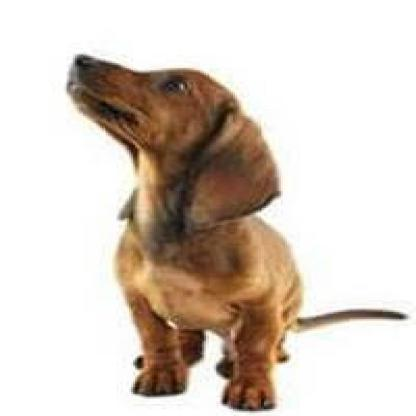Dachshund: (45, 22, 357, 416)
